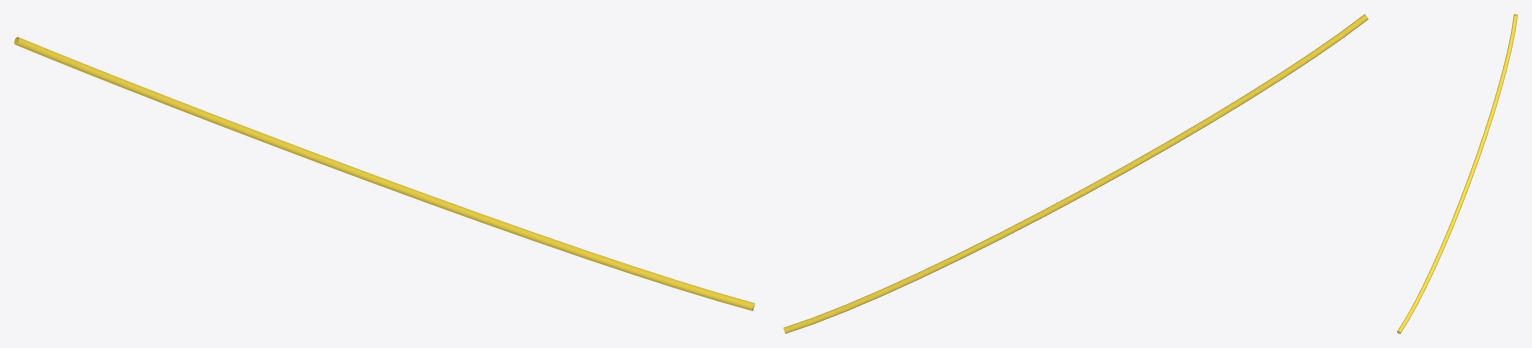
The model's file is Event_40932208_track_41.fbx.
3 renders of one model, left to right at view 1: azimuth 30°, elevation 25°; view 2: azimuth 210°, elevation 25°; view 3: azimuth 270°, elevation 25°, orthographic. The views are drawn at different scales.
Visible parts, largest first — view 1: Model; view 2: Model; view 3: Model.
Part boxes in pixels (box(x1,y1,x2,y2)): Model: box(14, 37, 754, 310); Model: box(783, 14, 1368, 333); Model: box(1397, 14, 1517, 333).
Size of the model in its own units: 3.42 by 1.77 by 1.15.
